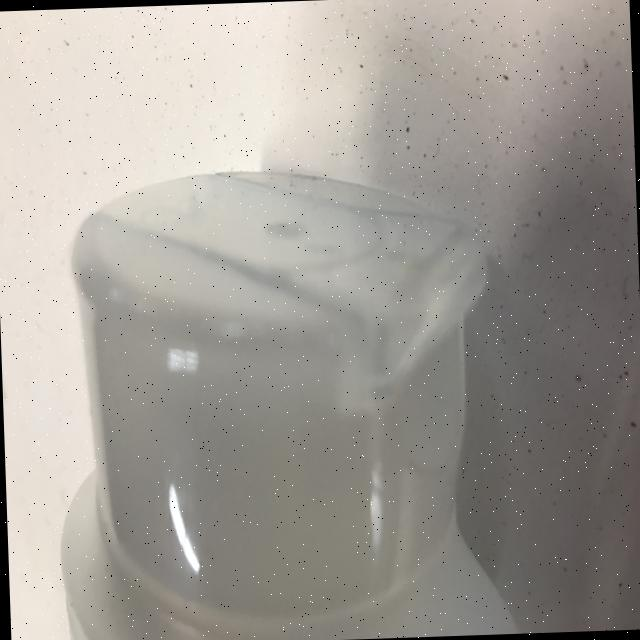plastic: (48, 159, 518, 640)
